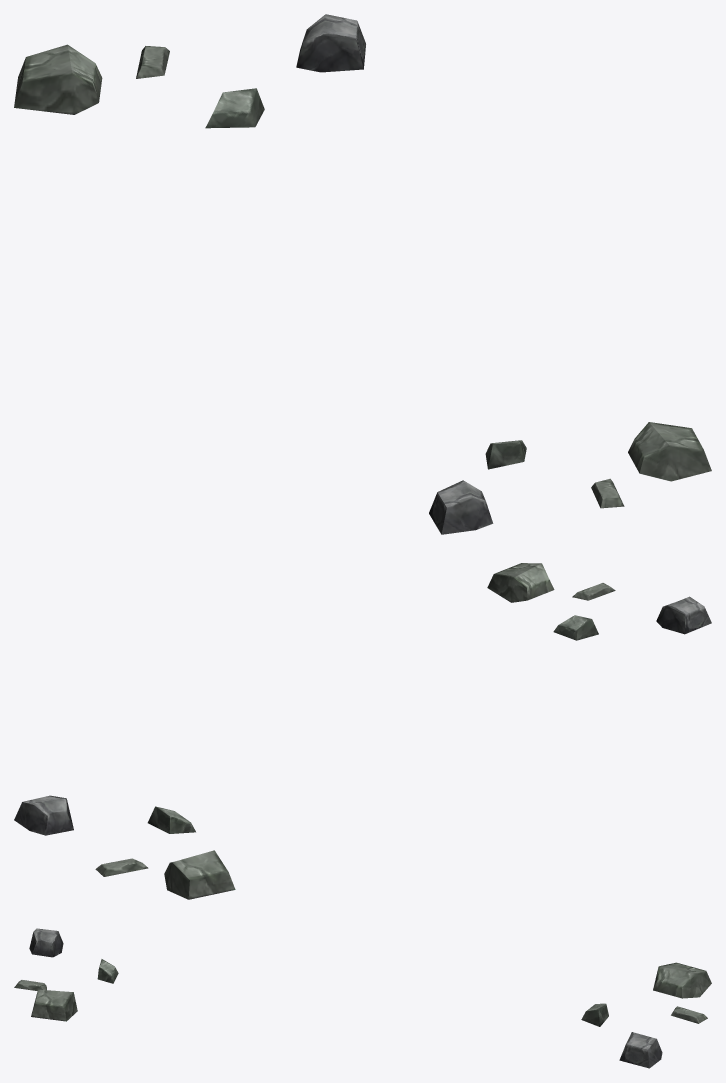
Rendered from wujian29_1.fbx.
The picture shows the model from 3 angles, top to bottom: view 1: azimuth 30°, elevation 25°; view 2: azimuth 150°, elevation 25°; view 3: azimuth 270°, elevation 25°; orthographic projection. The views are drawn at different scales.
Visible parts, largest first — view 1: wujian29_1; view 2: wujian29_1; view 3: wujian29_1.
Part boxes in pixels (left/top/right/bottom): wujian29_1: left=14, top=14, right=711, bottom=534; wujian29_1: left=14, top=563, right=711, bottom=899; wujian29_1: left=14, top=928, right=711, bottom=1068.
Size of the model in its own units: 480 by 38.42 by 1102.
